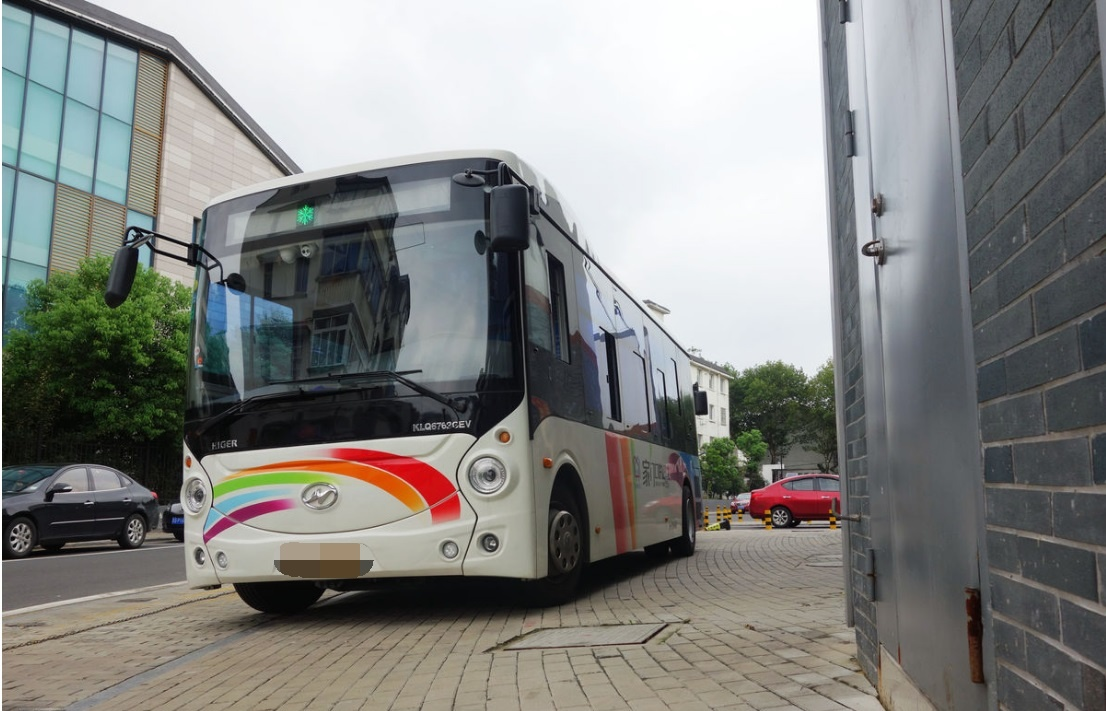bus: (71, 160, 742, 597)
